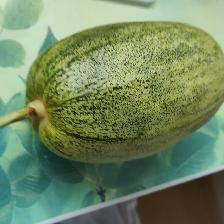gua: (61, 46, 202, 138)
